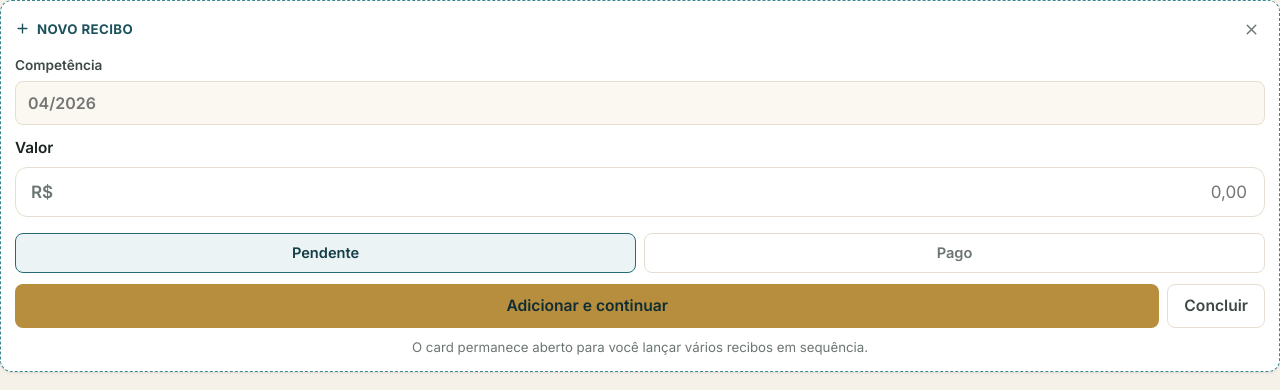
Scenario: NewReceiptCard › masks raw digits typed into Competência as MM/AAAA
Type "062026" into the field labelled "Competência".
click(640, 103); type("062026")  # box [15,81,1265,125]
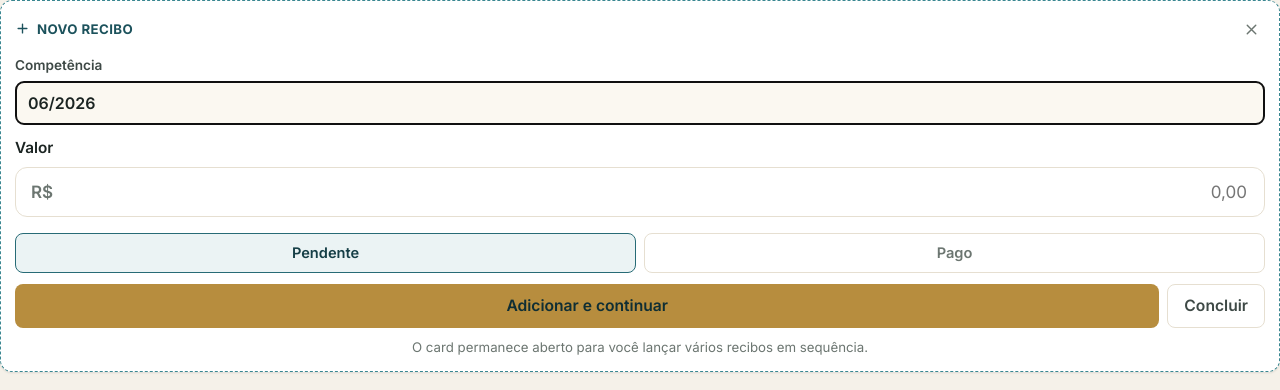
Check: the field labelled "Competência" holds "06/2026", box [15,81,1265,125]
